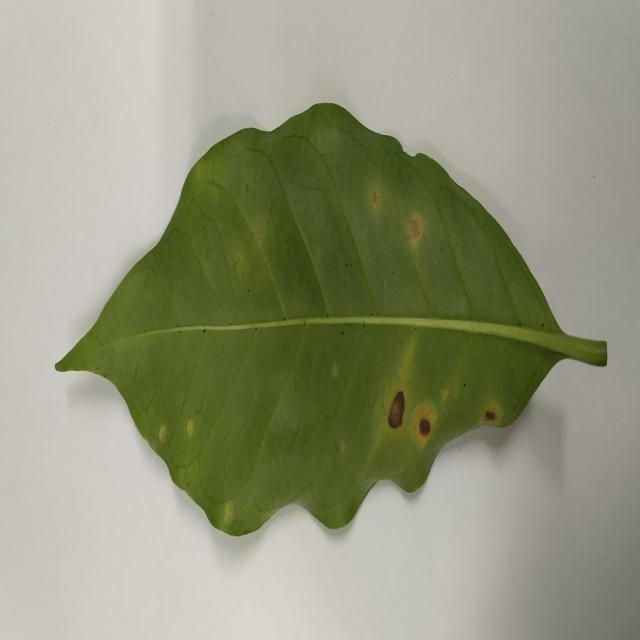Enfermedad-Mancha-de-hierro: (55, 102, 608, 539)
